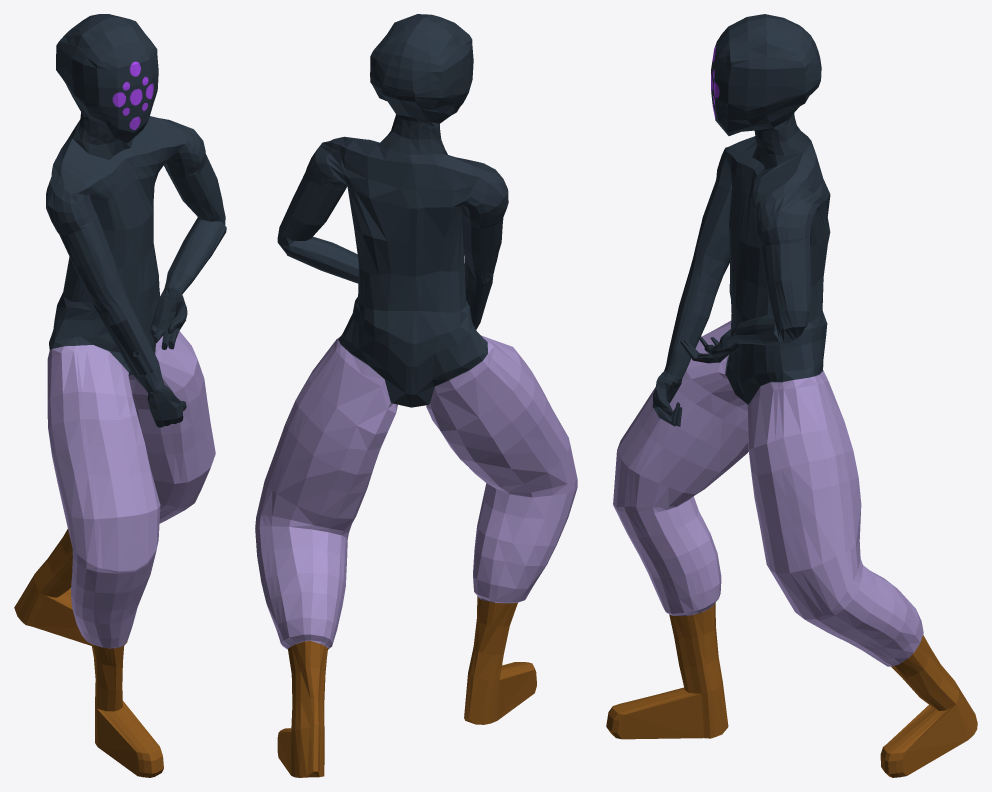
File: Oracle_WB_000011.obj
3 renders of one model, left to right at view 1: azimuth 30°, elevation 25°; view 2: azimuth 150°, elevation 25°; view 3: azimuth 270°, elevation 25°, orthographic. The views are drawn at different scales.
Visible parts, largest first — view 1: Cube; view 2: Cube; view 3: Cube.
Boxes of the visible parts, x1=… form: Cube: x1=14, y1=14, x2=226, y2=777; Cube: x1=255, y1=14, x2=577, y2=777; Cube: x1=606, y1=14, x2=977, y2=777.
Size of the model in its own units: 1.2 by 3.7 by 1.7.
